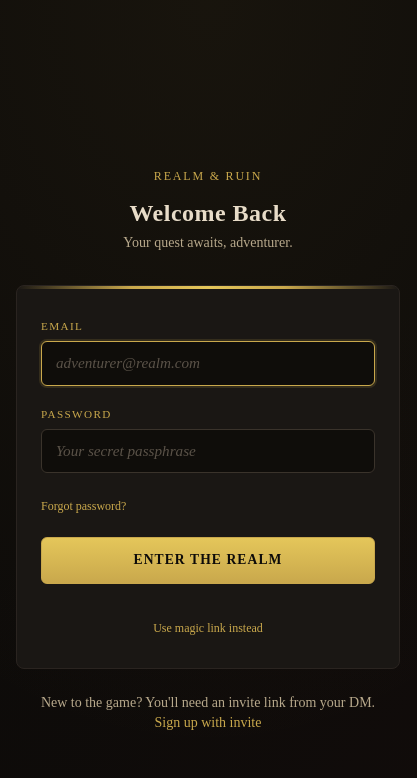
Test case: LoginForm › error handling › clears form error when user re-submits
The image size is (417, 778).
Type "test@example.com" into the field with test id "email-input". click: [208, 363]
box: [41,341,375,386]
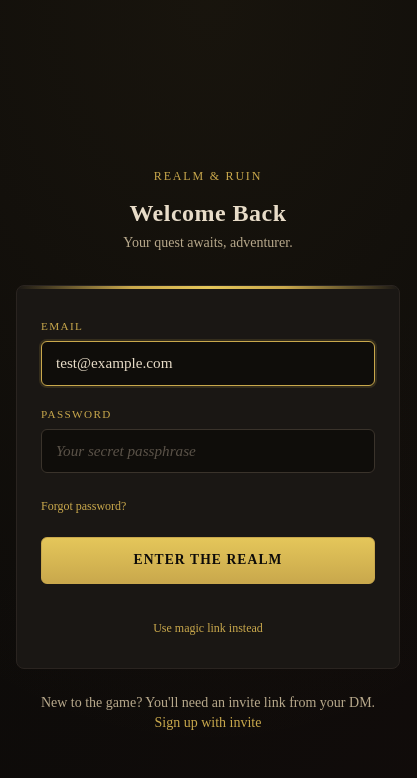
Type "wrongpass" into the password field with test id "password-input". click: [208, 451]
box: [41,429,375,473]
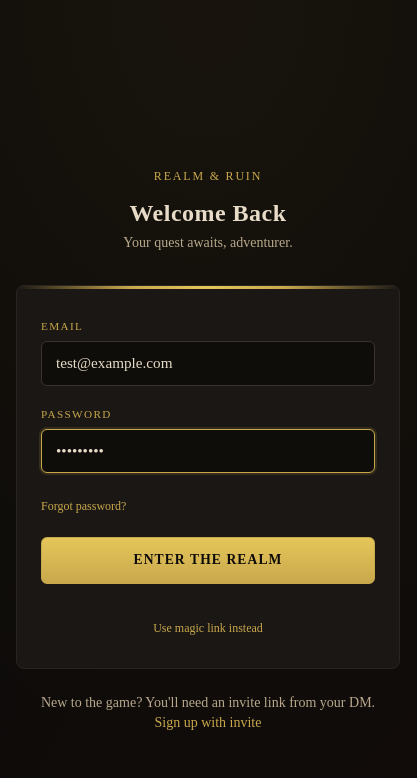
Click the button with test id "submit-button". click: [208, 561]
box: [41,537,375,584]
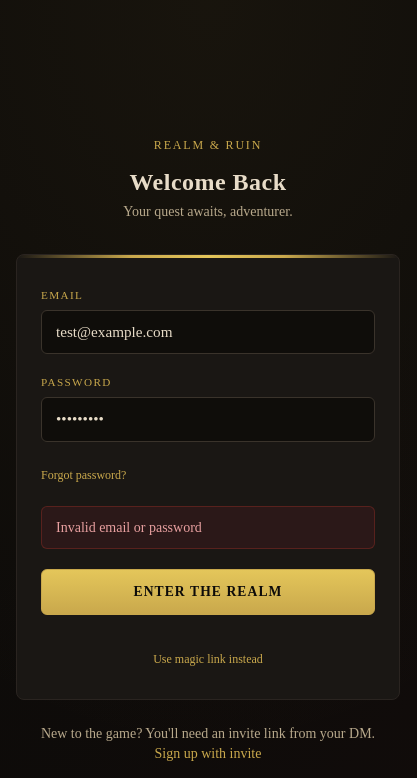
Result: the text "Invalid email or password" is shown at [41,506,375,549]
# Re-submit with correct password
Type "correctpass" into the password field with test id "password-input". click: [208, 420]
box: [41,397,375,442]
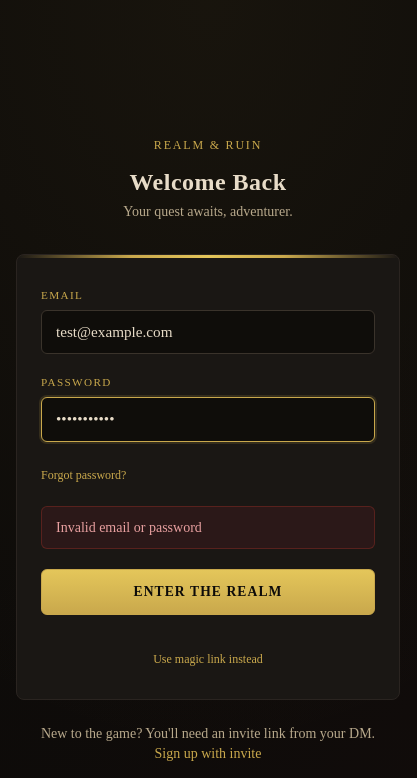
Click the button with test id "submit-button". click: [208, 592]
box: [41,569,375,615]
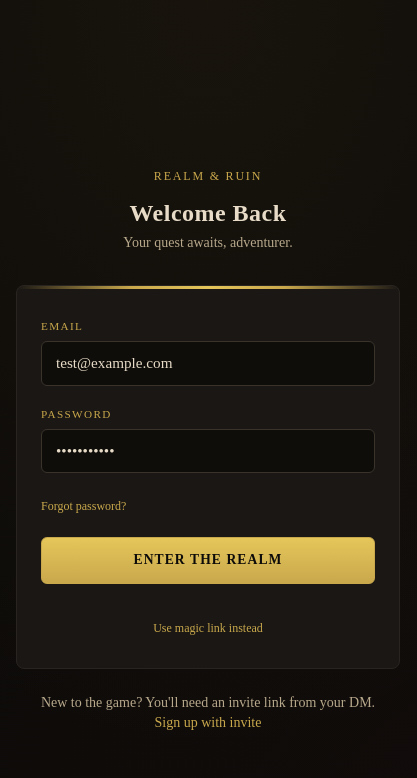
Result: the text with test id "form-error" is gone
